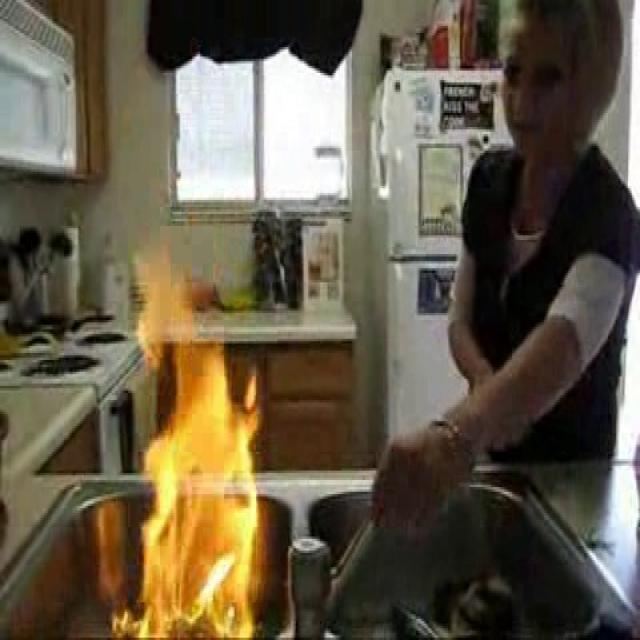fire: (132, 328, 256, 640)
